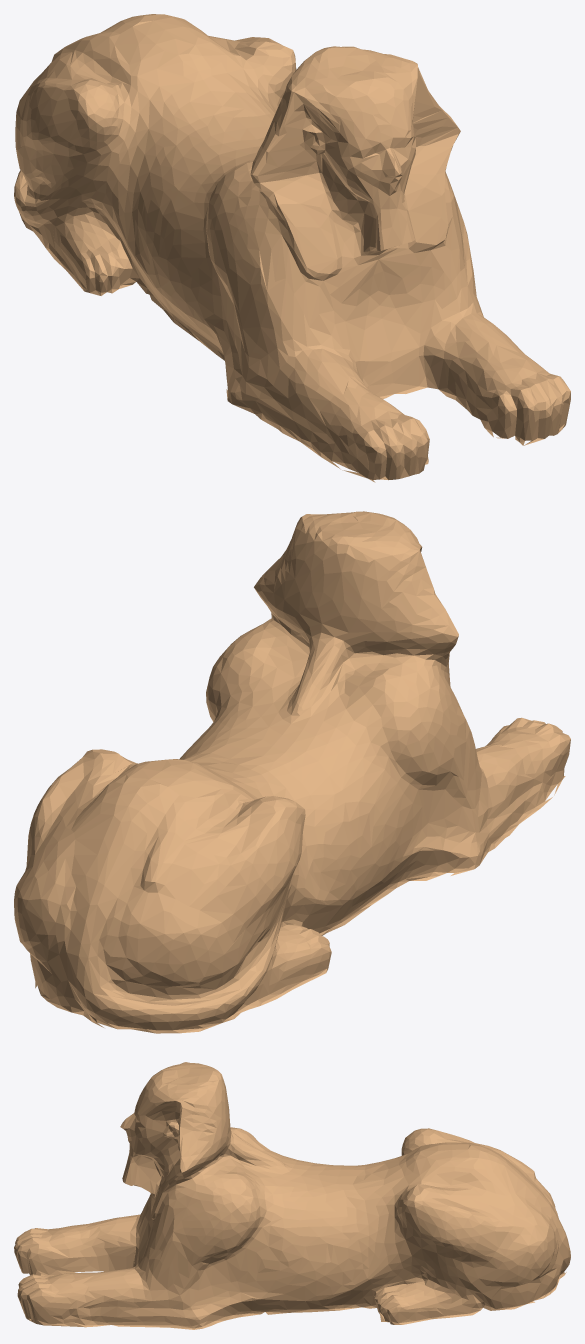
The model's file is sphinx.glb.
3 views of the same model, one above another, from view 1: azimuth 30°, elevation 25°; view 2: azimuth 150°, elevation 25°; view 3: azimuth 270°, elevation 25° (orthographic). The views are drawn at different scales.
Parts seen in each view (by area): view 1: Group20518; view 2: Group20518; view 3: Group20518.
Part boxes in pixels (bbox=[...]): Group20518: bbox=[14, 14, 570, 482]; Group20518: bbox=[14, 511, 570, 1033]; Group20518: bbox=[14, 1062, 570, 1329].
Size of the model in its own units: 11.78 by 14.55 by 33.47.
